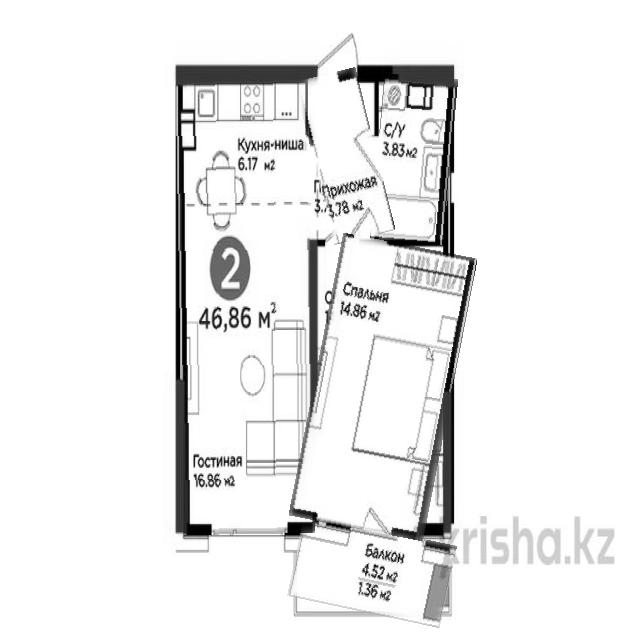balcony: (291, 522, 454, 620)
bathroom: (374, 75, 455, 244)
hallway: (304, 70, 385, 243)
living_room: (301, 238, 464, 536)
studio: (178, 80, 314, 534)
